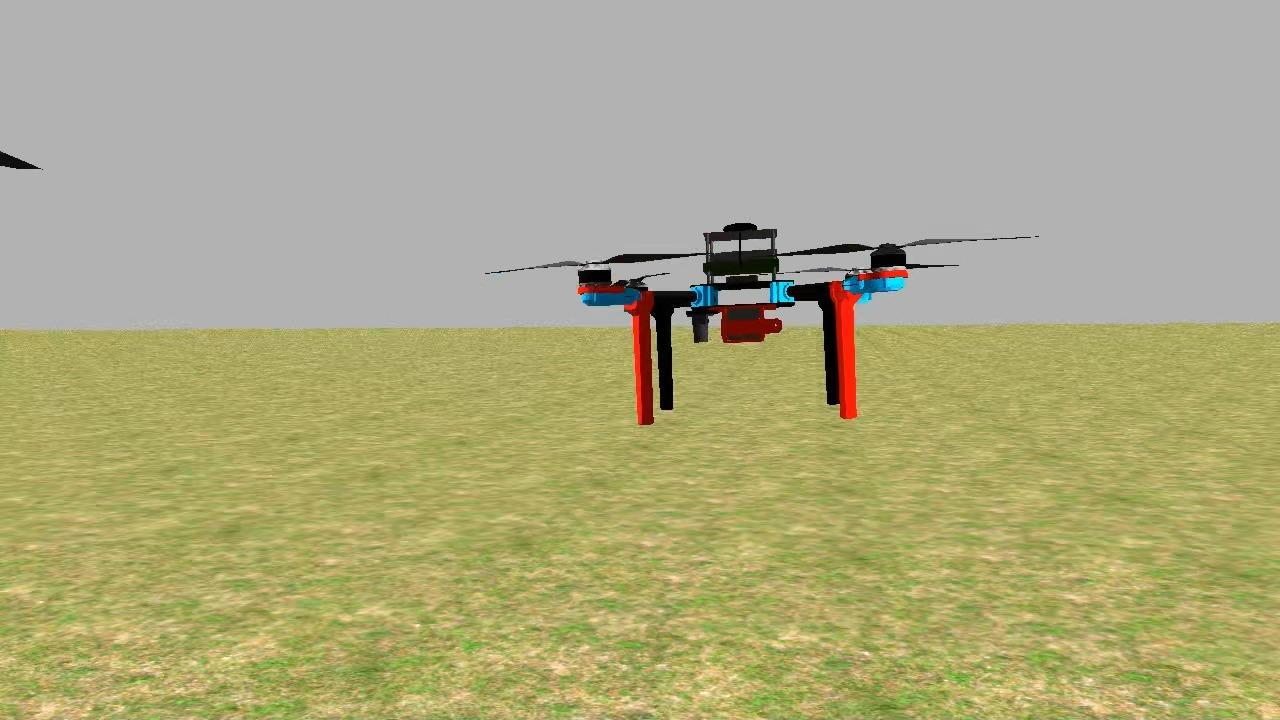UAV: (546, 197, 920, 439)
